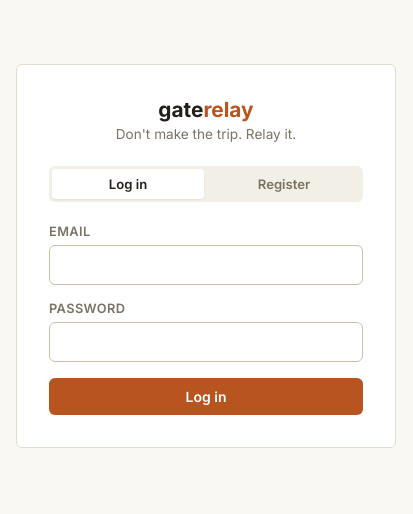
Test: AuthPage › switches to register mode and shows the name field
This screenshot has width=413, height=514.
Click the button "Register".
click(284, 184)  # box [208,169,360,199]
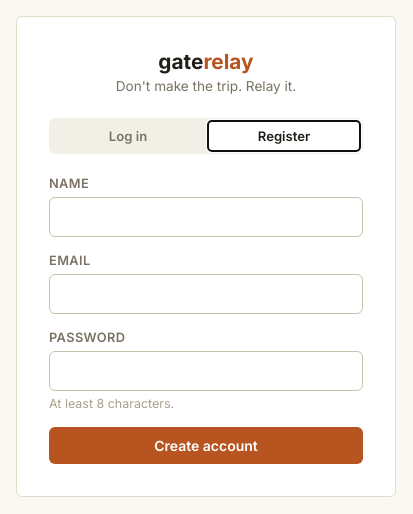
Now the field labelled "Name" is shown, box [49,196,363,236]
